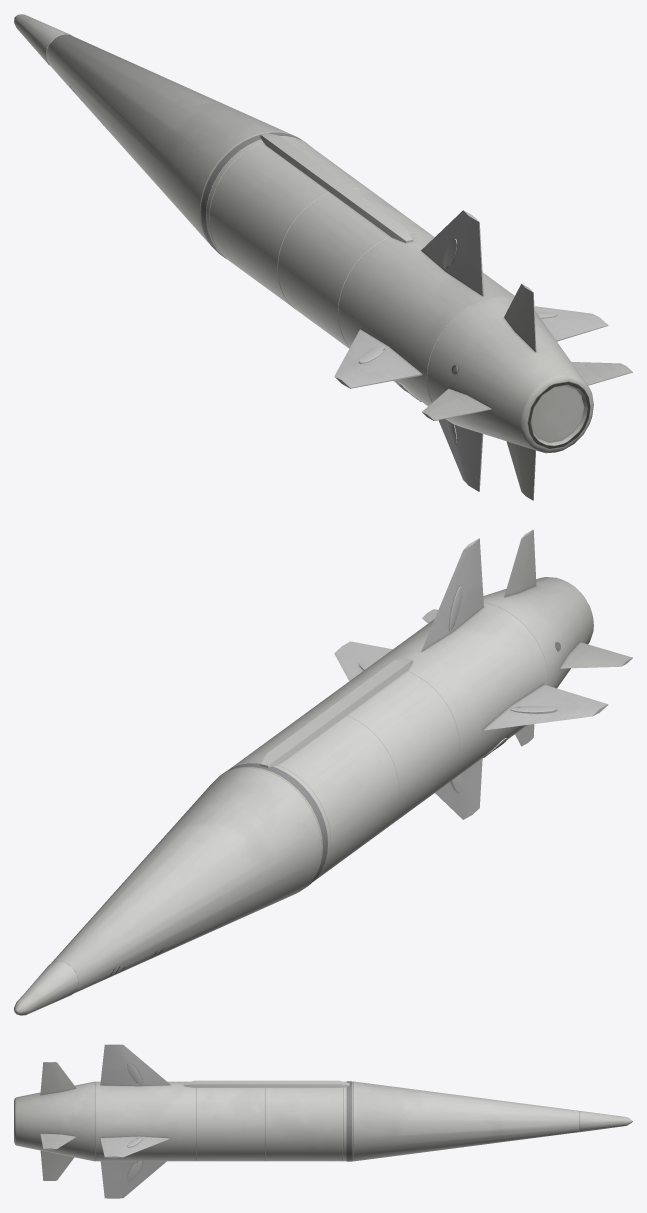
The model's file is kinzhal.glb.
The picture shows the model from 3 angles, top to bottom: view 1: azimuth 30°, elevation 25°; view 2: azimuth 150°, elevation 25°; view 3: azimuth 270°, elevation 25°; orthographic projection. The views are drawn at different scales.
Visible parts, largest first — view 1: Object_4, Object_10, Object_12; view 2: Object_4, Object_10, Object_12; view 3: Object_4, Object_10, Object_12.
Boxes of the visible parts, x1=… form: Object_4: x1=14, y1=14, x2=632, y2=500; Object_10: x1=260, y1=133, x2=412, y2=242; Object_12: x1=359, y1=238, x2=556, y2=444; Object_4: x1=14, y1=529, x2=632, y2=1015; Object_10: x1=260, y1=658, x2=412, y2=767; Object_12: x1=359, y1=586, x2=556, y2=792; Object_4: x1=14, y1=1044, x2=632, y2=1198; Object_10: x1=184, y1=1080, x2=349, y2=1087; Object_12: x1=127, y1=1063, x2=142, y2=1180.
Bounding box in the file's own units: 1.97 × 1.97 × 7.19.
4 materials, 1 textured.
